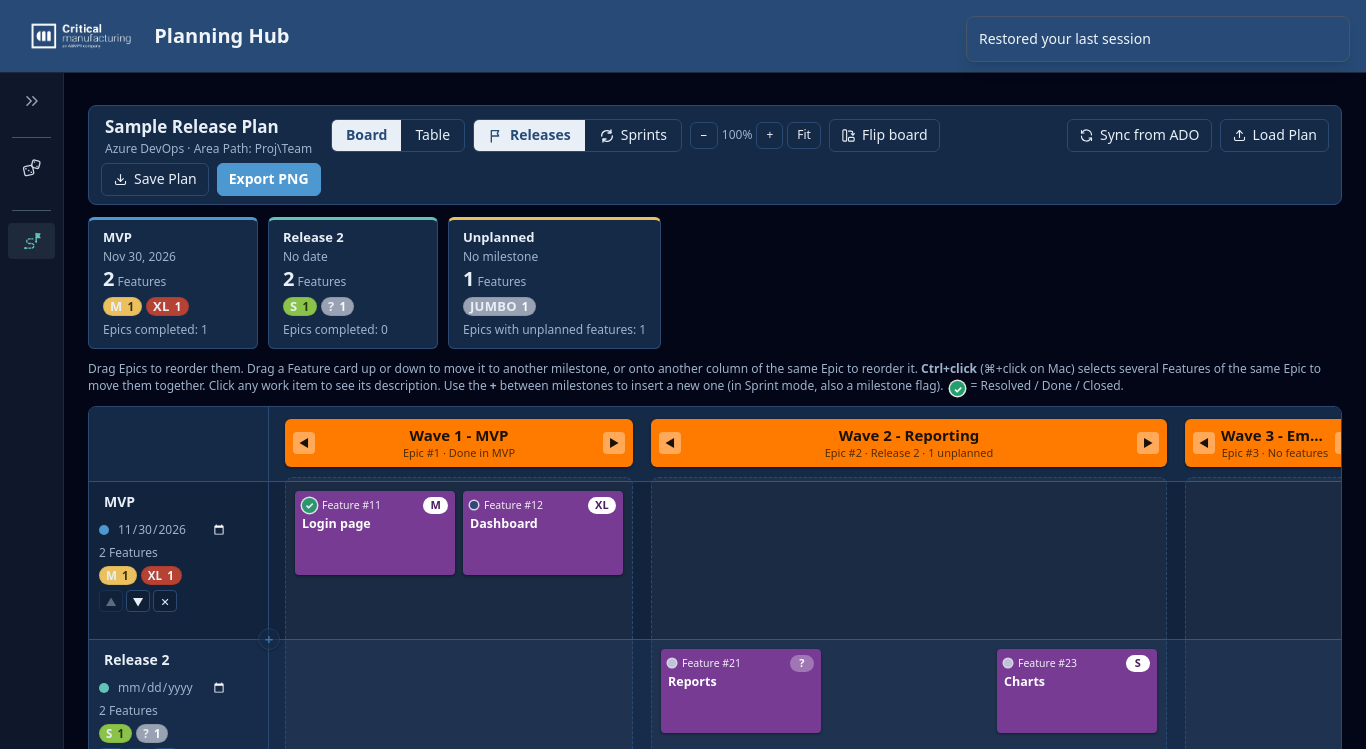
Test: Sidebar collapse – full app › keeps the Release Plan board usable and highlighted with the collapsed sidebar
Expected: the 7th icon is shown, [22,158,42,178]
Expected: the 9th icon is shown, [22,231,42,251]
// Toggling the sidebar on the board does not remount/lose the board view state.
Click the tab "Table" at (433, 136), box [401,120,464,151]
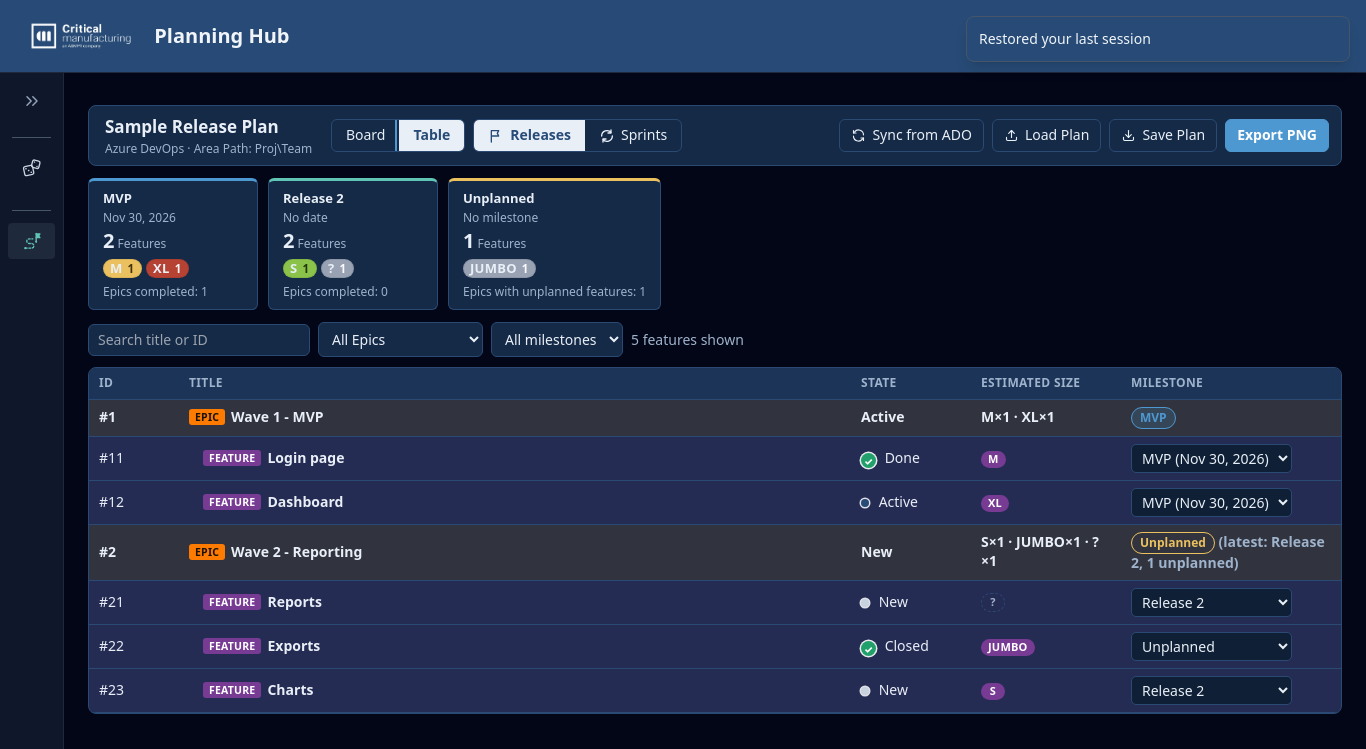
Click the button named "Expand sidebar" at (32, 101), box [16,85,48,117]
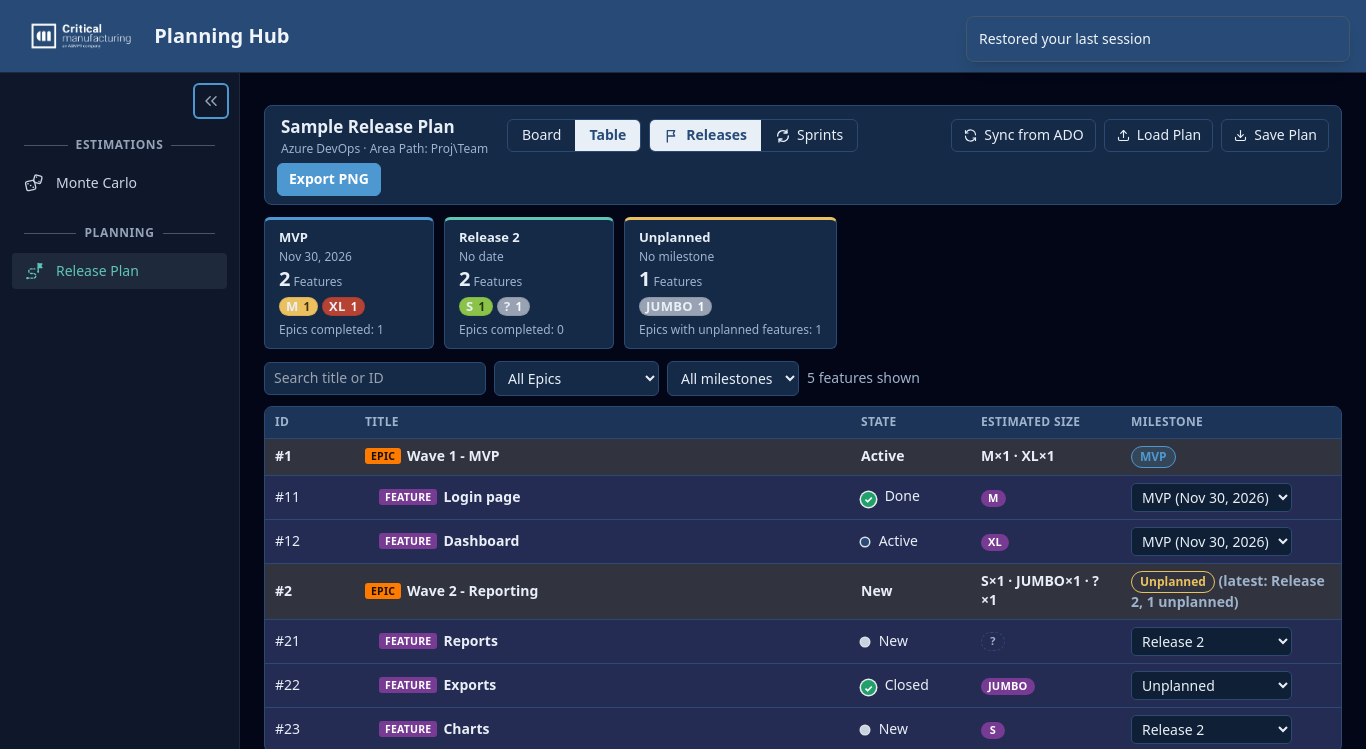
Result: the button named "Collapse sidebar" is expanded at [195,85,227,117]
